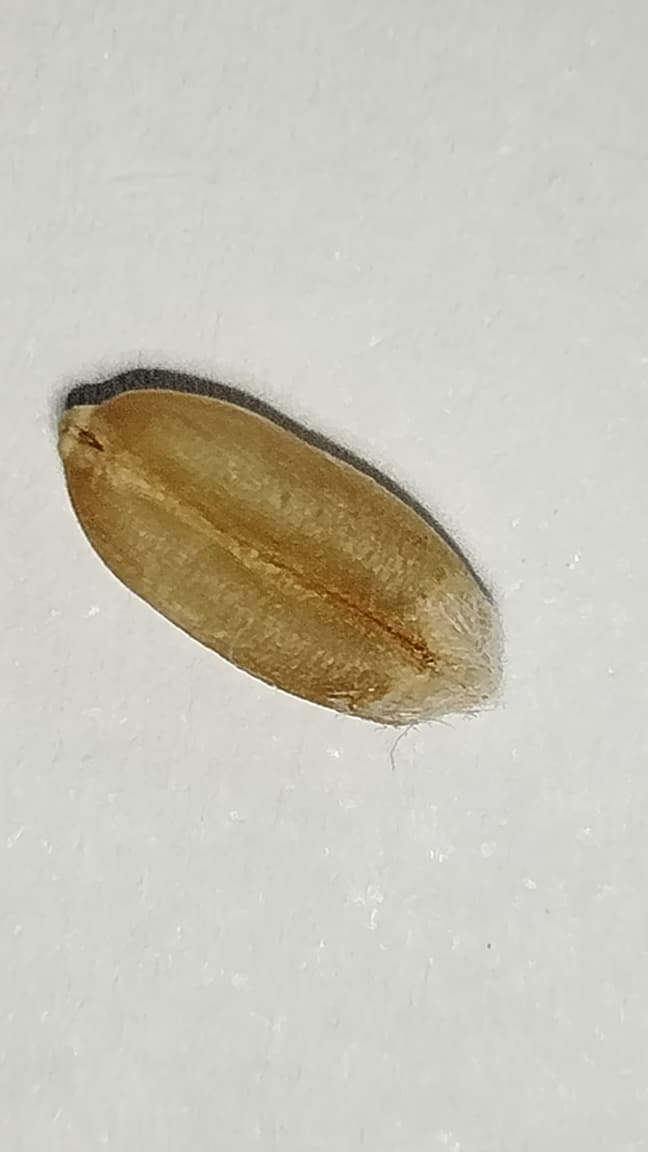healthy: (60, 389, 500, 724)
